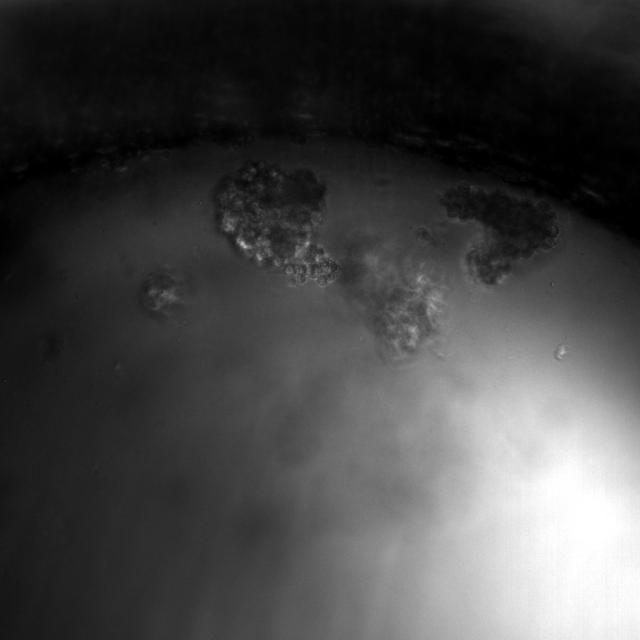organoid: (213, 162, 339, 286), (338, 235, 443, 358), (440, 182, 559, 283), (140, 267, 186, 316)
